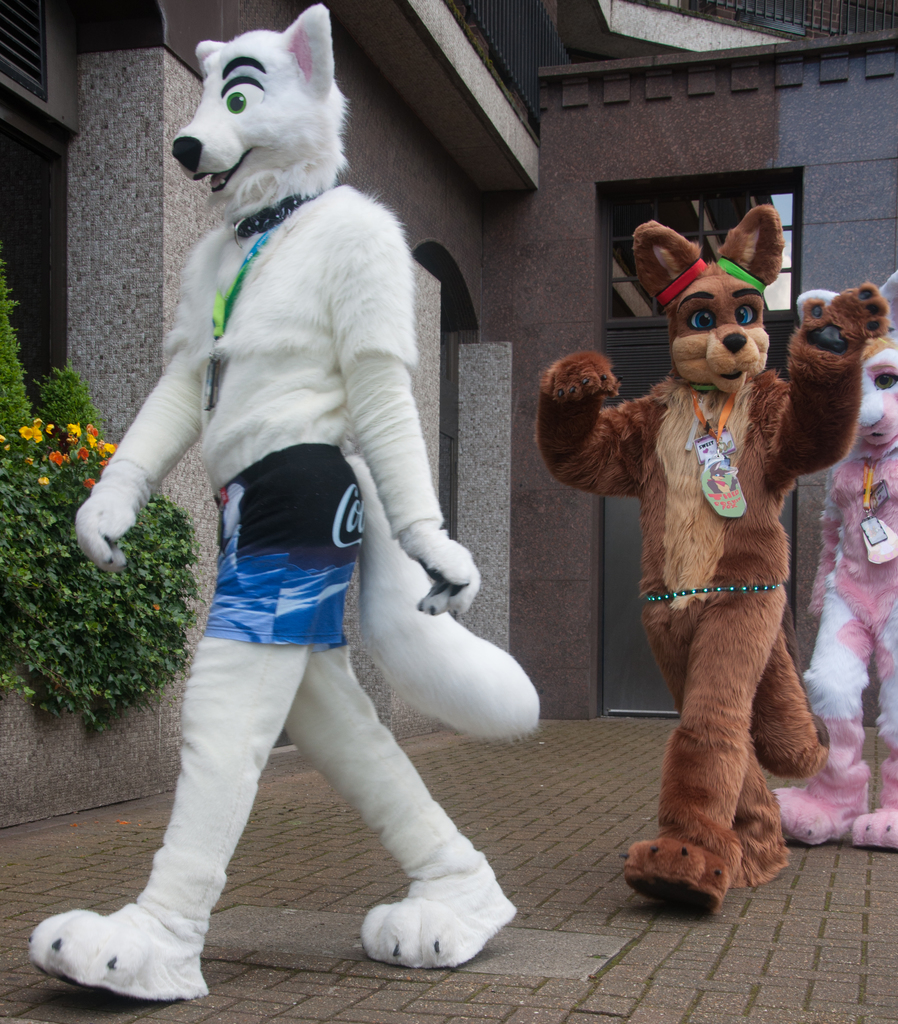Animal: (24, 0, 542, 999), (533, 217, 879, 908), (765, 264, 896, 850)
